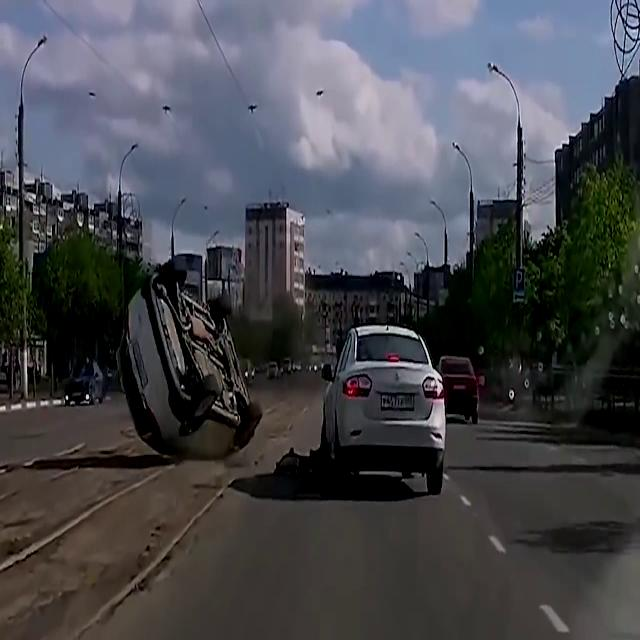accident: (118, 264, 446, 496)
non-accident: (319, 320, 481, 500)
